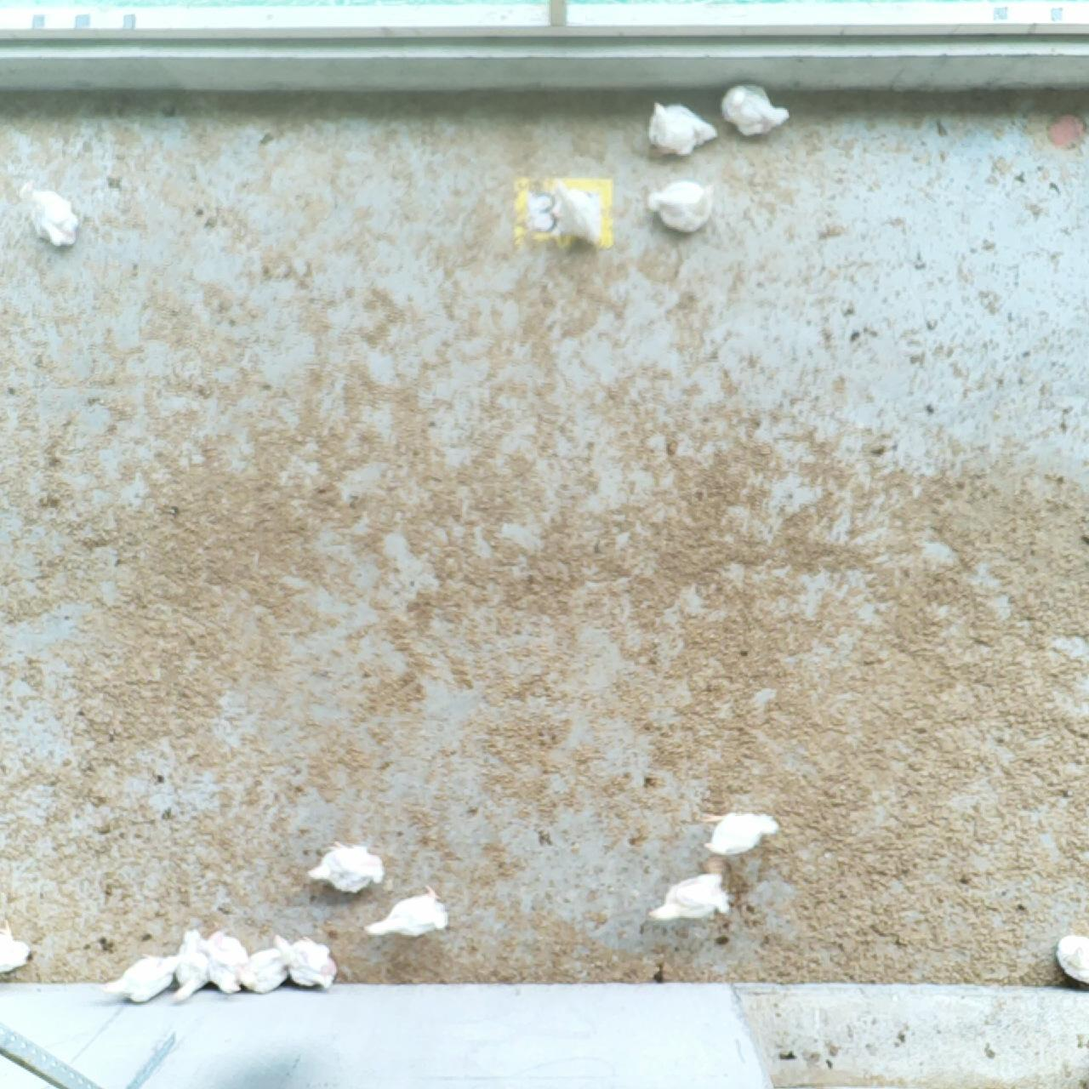chicken: (365, 885, 447, 938), (308, 841, 384, 893), (647, 873, 729, 919), (645, 179, 712, 235), (648, 101, 716, 156), (698, 808, 778, 854), (101, 955, 179, 1002), (720, 83, 789, 135), (275, 933, 337, 989), (555, 181, 604, 246), (28, 190, 79, 247), (207, 929, 249, 997), (176, 930, 210, 1003), (238, 948, 288, 994), (1057, 934, 1088, 987), (1, 921, 30, 973)
